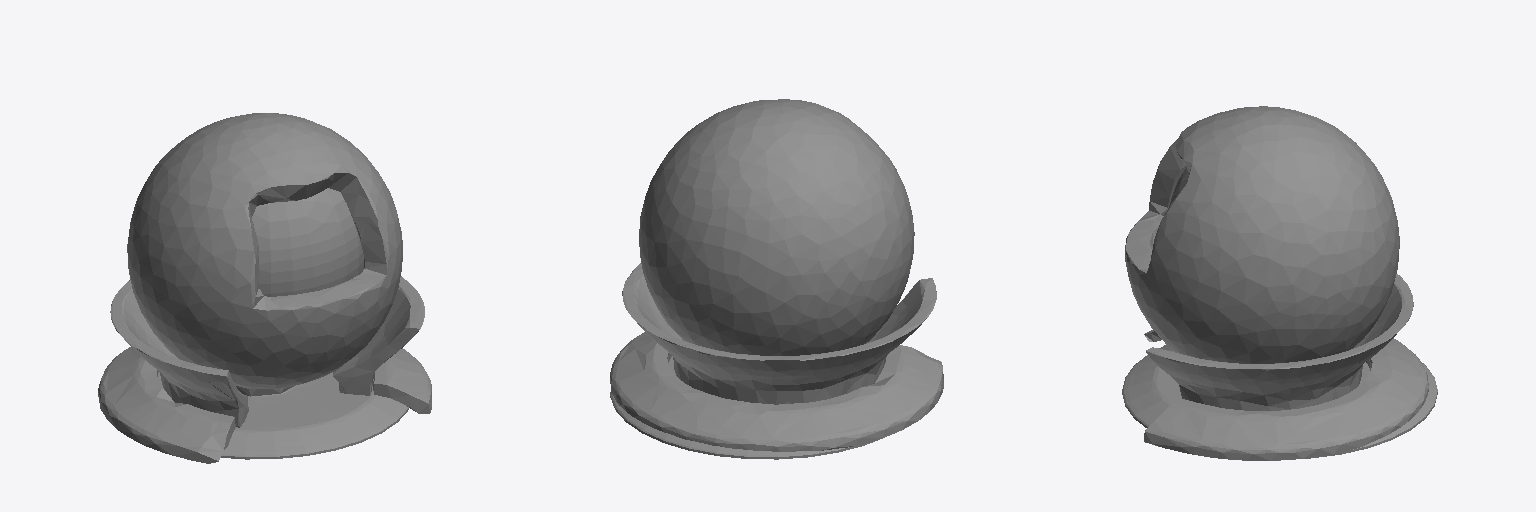
Rendered from mitsuba-sphere.obj.
3 views of the same model, side by side, from view 1: azimuth 30°, elevation 25°; view 2: azimuth 150°, elevation 25°; view 3: azimuth 270°, elevation 25° (orthographic).
Parts seen in each view (by area): view 1: default; view 2: default; view 3: default.
Part boxes in pixels (x1,y1,x2,y2): default: (98, 113, 431, 463); default: (610, 99, 943, 459); default: (1122, 106, 1437, 460).
Size of the model in its own units: 61.98 by 56.1 by 58.57.